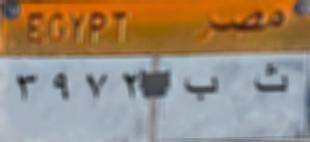2: (120, 67, 141, 100)
3: (11, 71, 43, 105)
7: (83, 68, 109, 100)
9: (52, 68, 75, 103)
baa: (182, 68, 223, 104)
thaa: (251, 58, 290, 103)
